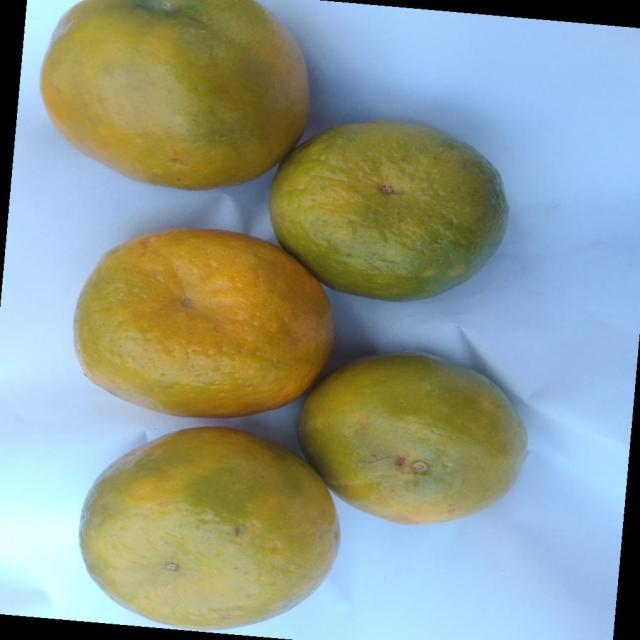fresh orange: (78, 425, 340, 630), (39, 0, 310, 190), (72, 226, 334, 418), (268, 118, 509, 302), (296, 351, 528, 525)
